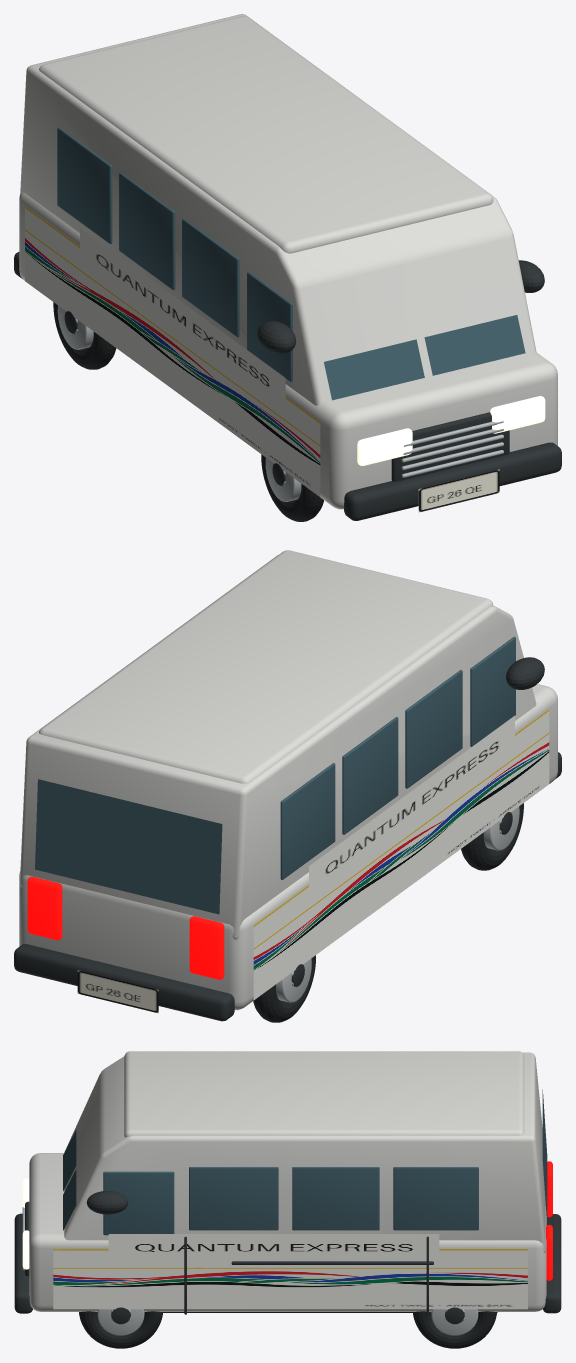
File: quantum-express.glb
The picture shows the model from 3 angles, top to bottom: view 1: azimuth 30°, elevation 25°; view 2: azimuth 150°, elevation 25°; view 3: azimuth 270°, elevation 25°; orthographic projection. The views are drawn at different scales.
Parts seen in each view (by area): view 1: roof, cabin_shell, livery_left, body, brand_left, bumper_front, window_left_sliding_front, window_left_sliding_rear, window_left_rear, window_front_right, window_front_left, grille_surround (+11 smaller); view 2: roof, cabin_shell, livery_left, window_rear, body, brand_left, bumper_rear, window_left_sliding_front, window_left_sliding_rear, window_left_rear, window_left_front, brakelight_right (+7 smaller); view 3: roof, cabin_shell, livery_right, body, brand_right, window_right_sliding_front, window_right_sliding_rear, window_right_rear, window_right_front, wheel_fr_tire, wheel_rr_tire, bumper_rear (+9 smaller).
Part boxes in pixels (left/top/right/bottom): roof: left=39, top=16, right=493, bottom=253; cabin_shell: left=20, top=14, right=536, bottom=405; livery_left: left=25, top=206, right=320, bottom=496; body: left=19, top=192, right=557, bottom=509; brand_left: left=80, top=228, right=285, bottom=403; bumper_front: left=344, top=442, right=561, bottom=520; window_left_sliding_front: left=182, top=218, right=239, bottom=337; window_left_sliding_rear: left=119, top=172, right=175, bottom=290; window_left_rear: left=57, top=127, right=112, bottom=244; window_front_right: left=424, top=315, right=525, bottom=375; window_front_left: left=324, top=339, right=424, bottom=400; grille_surround: left=391, top=412, right=509, bottom=481; roof: left=39, top=550, right=493, bottom=783; cabin_shell: left=19, top=555, right=536, bottom=939; livery_left: left=253, top=709, right=549, bottom=1000; window_rear: left=35, top=779, right=222, bottom=914; body: left=19, top=684, right=557, bottom=1010; brand_left: left=309, top=715, right=514, bottom=891; bumper_rear: left=14, top=944, right=234, bottom=1021; window_left_sliding_front: left=405, top=670, right=462, bottom=788; window_left_sliding_rear: left=342, top=717, right=398, bottom=834; window_left_rear: left=280, top=763, right=335, bottom=879; window_left_front: left=470, top=636, right=515, bottom=746; brakelight_right: left=27, top=876, right=62, bottom=940; roof: left=124, top=1051, right=524, bottom=1137; cabin_shell: left=64, top=1052, right=546, bottom=1252; livery_right: left=53, top=1249, right=527, bottom=1309; body: left=29, top=1153, right=546, bottom=1311; brand_right: left=108, top=1234, right=439, bottom=1254; window_right_sliding_front: left=189, top=1167, right=278, bottom=1230; window_right_sliding_rear: left=292, top=1167, right=379, bottom=1230; window_right_rear: left=393, top=1167, right=478, bottom=1230; window_right_front: left=103, top=1171, right=174, bottom=1235; wheel_fr_tire: left=79, top=1311, right=162, bottom=1348; wheel_rr_tire: left=413, top=1311, right=496, bottom=1348; bumper_rear: left=543, top=1214, right=561, bottom=1313.
Size of the model in its own units: 2.47 by 2.31 by 5.25.
9 materials, 2 textured.
